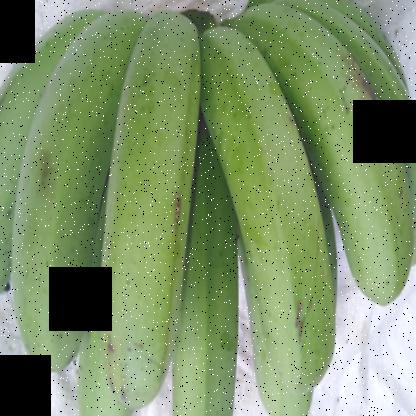unripe: (173, 8, 338, 400), (8, 1, 127, 381), (96, 17, 207, 415), (270, 7, 415, 309)
